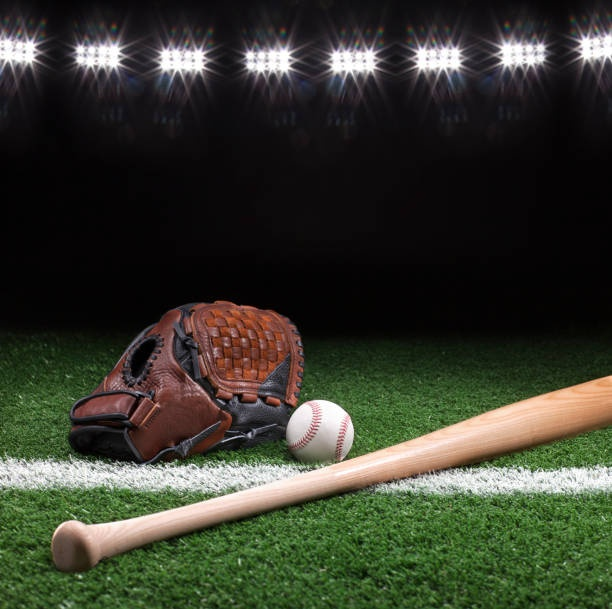bita: (52, 376, 605, 569)
